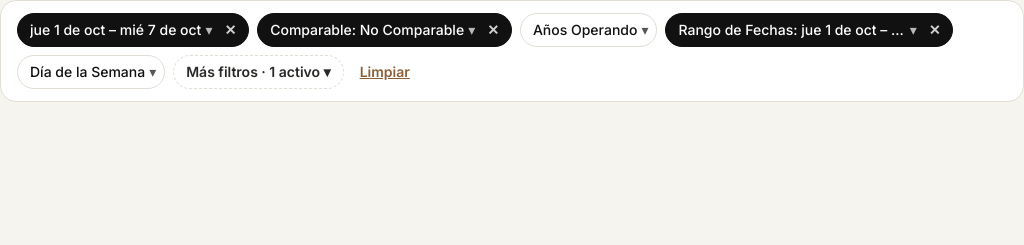
Scenario: <FiltrosBi> en píldoras › ✕ de todas las píldoras dice «Quitar <filtro>: <valor>»
Click the button "Más filtros · 1 activo ▾" at (258, 72), box top-left (173, 55), bottom-right (344, 89)
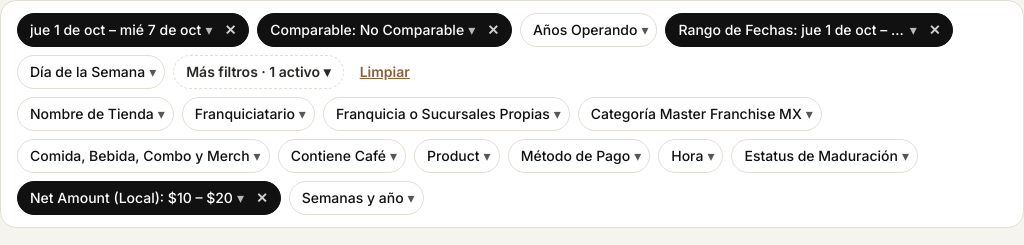
Expected: the button named "Quitar Comparable: No Comparable" is shown, top-left (483, 14), bottom-right (511, 46)
Expected: the button named "Quitar Net Amount (Local): $10 – $20" is shown, top-left (252, 182), bottom-right (280, 214)
